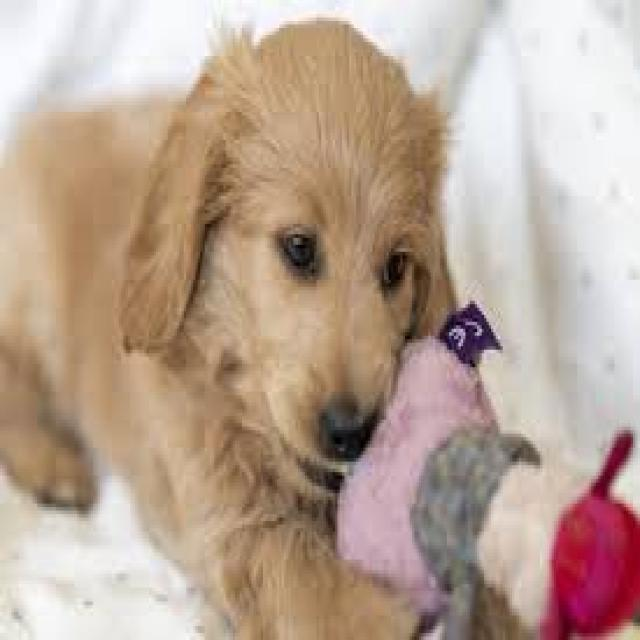Dog: (0, 27, 434, 617)
